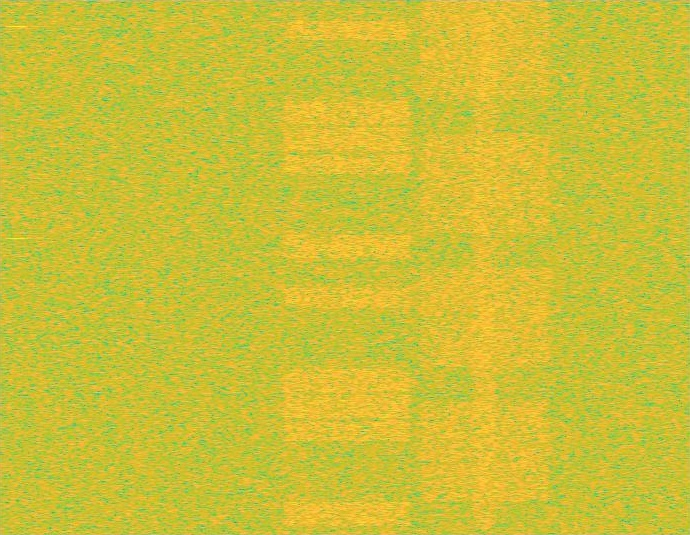5G: (416, 0, 554, 534)
DSSS: (470, 0, 501, 534)
LTE: (278, 0, 416, 534)
Radar: (10, 0, 24, 534)
